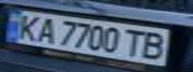0: (103, 25, 124, 55), (87, 22, 106, 52)
7: (54, 18, 78, 47), (72, 20, 90, 50)
A: (30, 16, 60, 44)
B: (136, 30, 172, 61)
K: (9, 11, 45, 42)
T: (121, 26, 148, 59)
